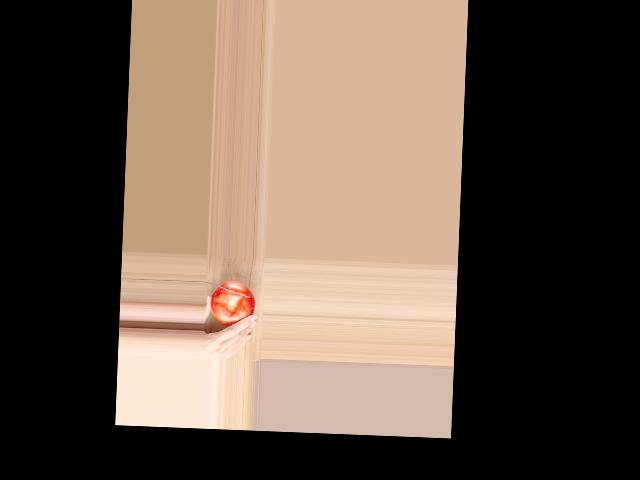tomato: (209, 280, 255, 326)
